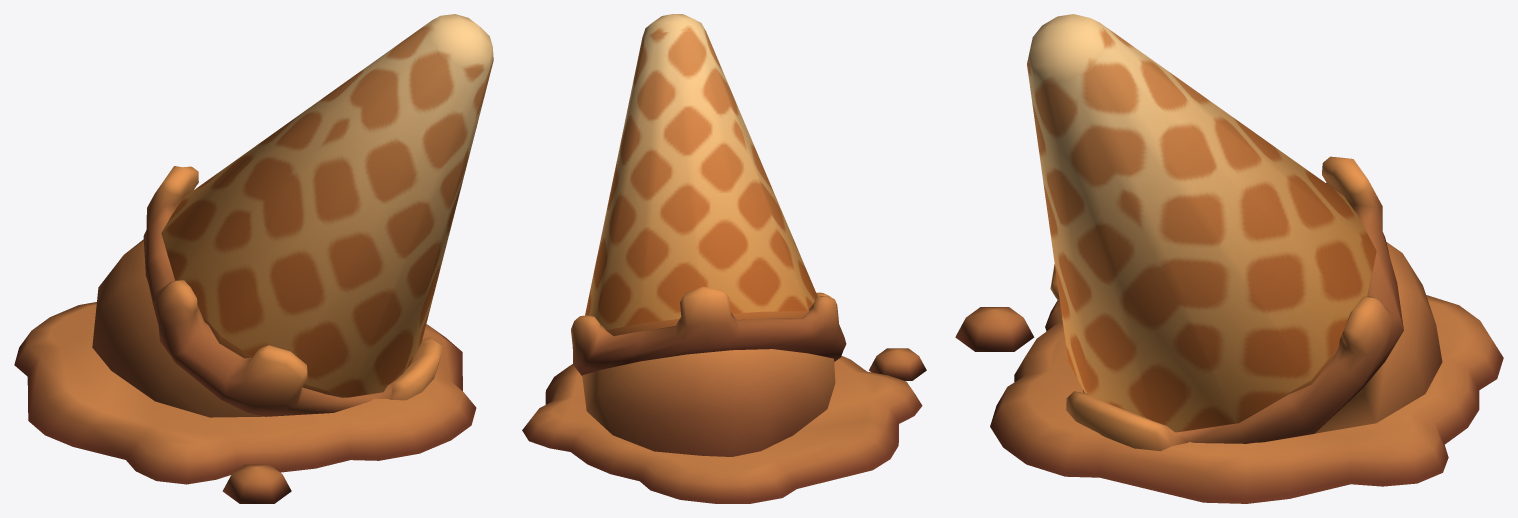
The model's file is m_SpilledIceCream03.fbx.
3 renders of one model, left to right at view 1: azimuth 30°, elevation 25°; view 2: azimuth 150°, elevation 25°; view 3: azimuth 270°, elevation 25°, orthographic. The views are drawn at different scales.
Visible parts, largest first — view 1: m_SpilledIceCream03; view 2: m_SpilledIceCream03; view 3: m_SpilledIceCream03.
Boxes of the visible parts, x1,y1,x2,y2 form: m_SpilledIceCream03: (14,14,493,503); m_SpilledIceCream03: (522,14,926,503); m_SpilledIceCream03: (955,14,1503,503).
Size of the model in its own units: 12.21 by 11.36 by 12.68.
